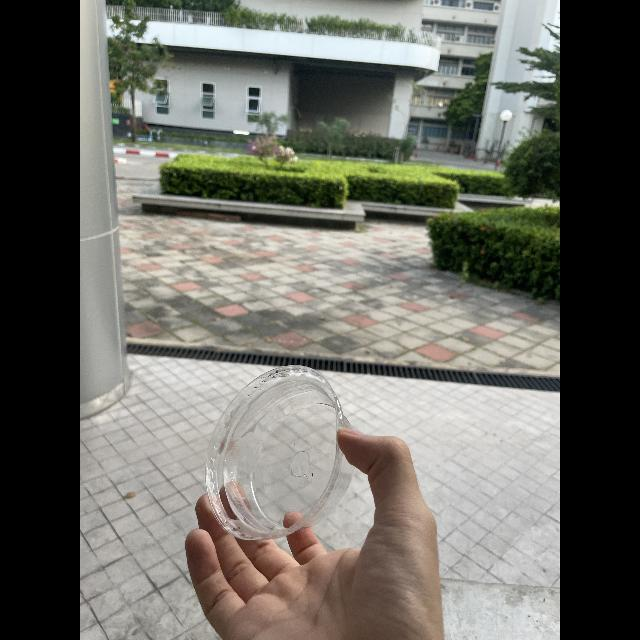plastic_cup_lid: (204, 363, 366, 547)
